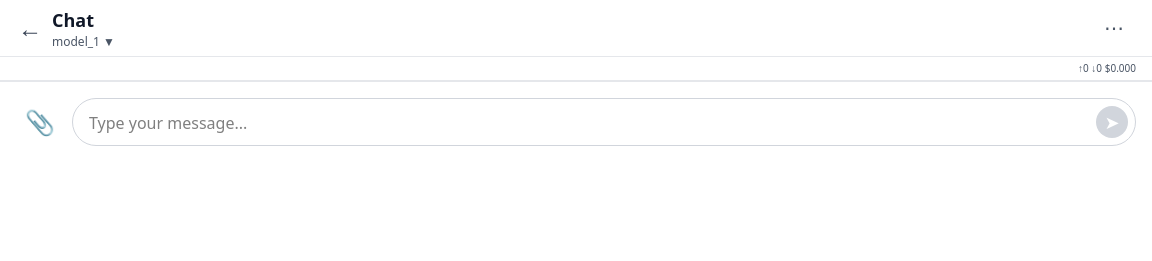
ChatView with the real message list › the ⋯ menu › closes on Escape and hands focus back to its button
Click the button named "Chat menu".
click(1114, 28)  # box [1092,6,1136,50]
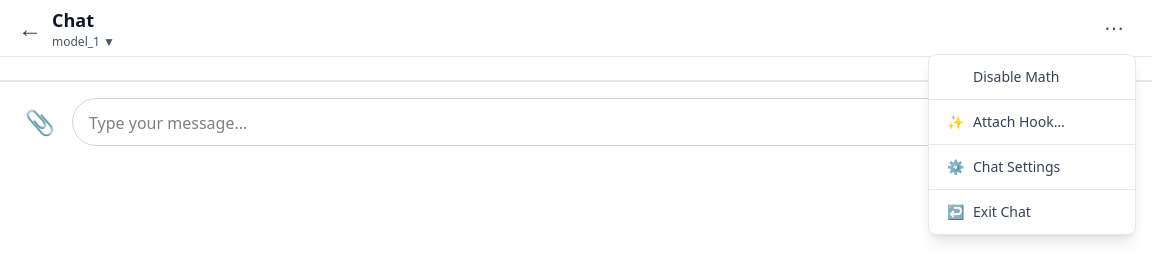
Press Escape
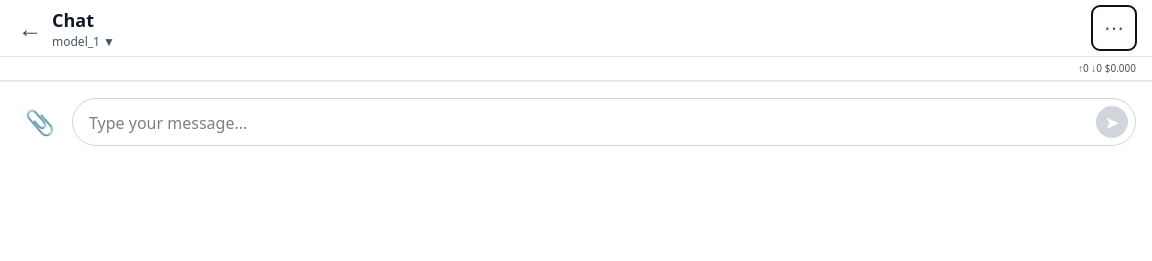
Expected: the menu item "Disable Math" is gone
